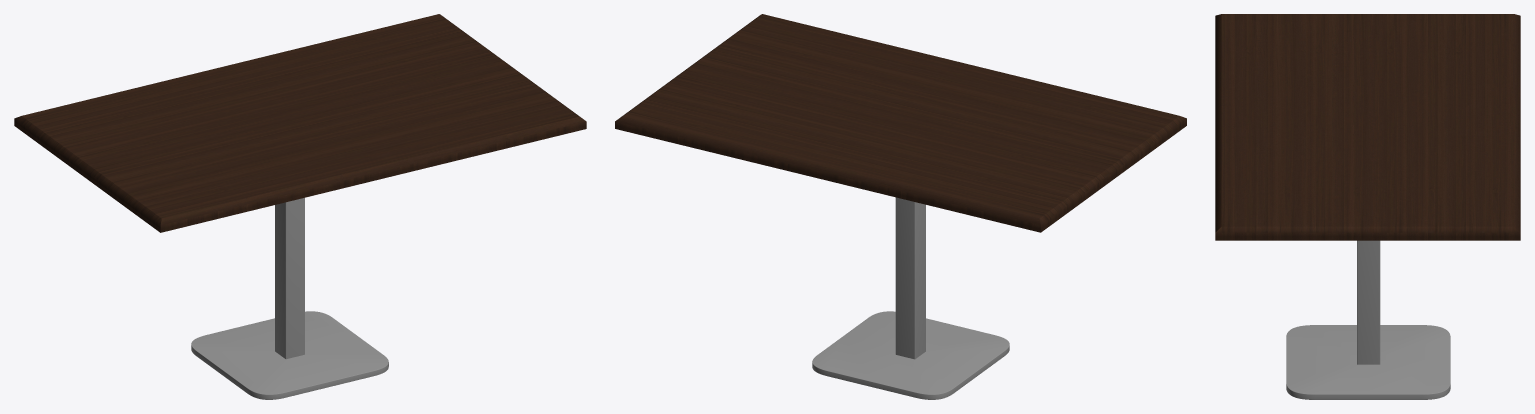
Rendered from Table 2.FBX.
3 views of the same model, side by side, from view 1: azimuth 30°, elevation 25°; view 2: azimuth 150°, elevation 25°; view 3: azimuth 270°, elevation 25° (orthographic). The views are drawn at different scales.
Visible parts, largest first — view 1: Table 2; view 2: Table 2; view 3: Table 2.
Part boxes in pixels (x1,y1,x2,y2): Table 2: [14, 14, 586, 399]; Table 2: [615, 14, 1186, 399]; Table 2: [1215, 14, 1520, 399].
Bounding box in the file's own units: 131 × 70.54 × 77.95.
2 materials, 1 textured.
